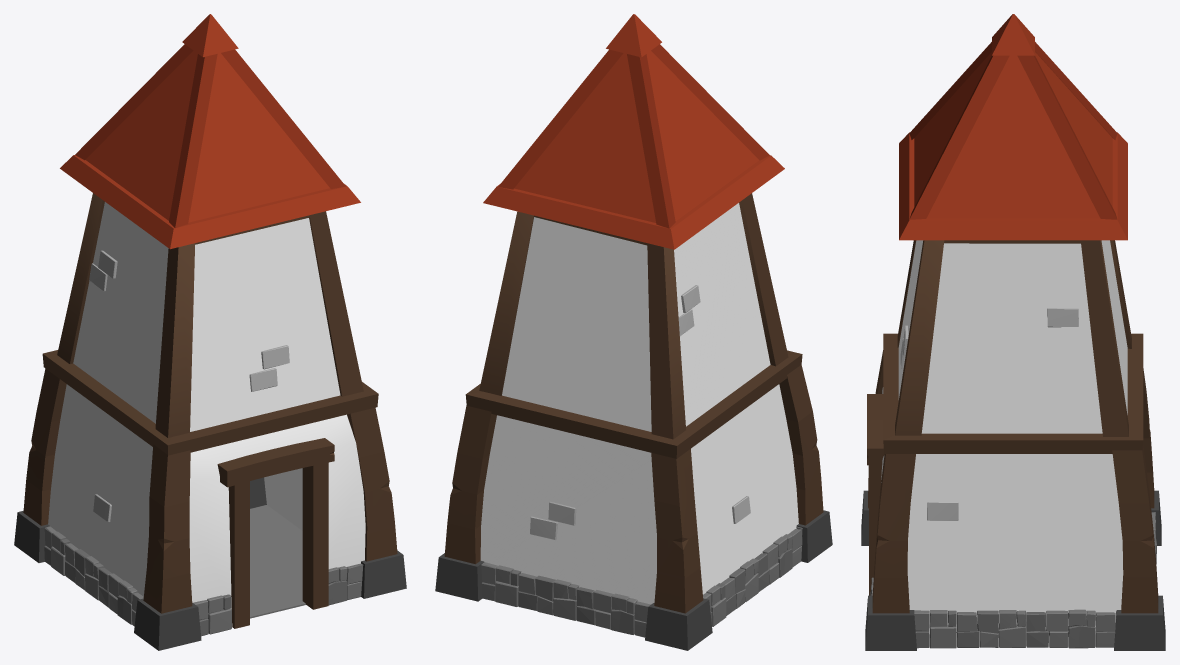
The model's file is Mesh_Buildings_Windmill_03 1.FBX.
3 views of the same model, side by side, from view 1: azimuth 30°, elevation 25°; view 2: azimuth 150°, elevation 25°; view 3: azimuth 270°, elevation 25° (orthographic). The views are drawn at different scales.
Parts seen in each view (by area): view 1: Mesh_Buildings_Windmill_03; view 2: Mesh_Buildings_Windmill_03; view 3: Mesh_Buildings_Windmill_03.
Boxes of the visible parts, x1=… form: Mesh_Buildings_Windmill_03: x1=14, y1=14, x2=406, y2=650; Mesh_Buildings_Windmill_03: x1=435, y1=14, x2=832, y2=650; Mesh_Buildings_Windmill_03: x1=861, y1=14, x2=1165, y2=650.
Bounding box in the file's own units: 361 × 366 × 762.
